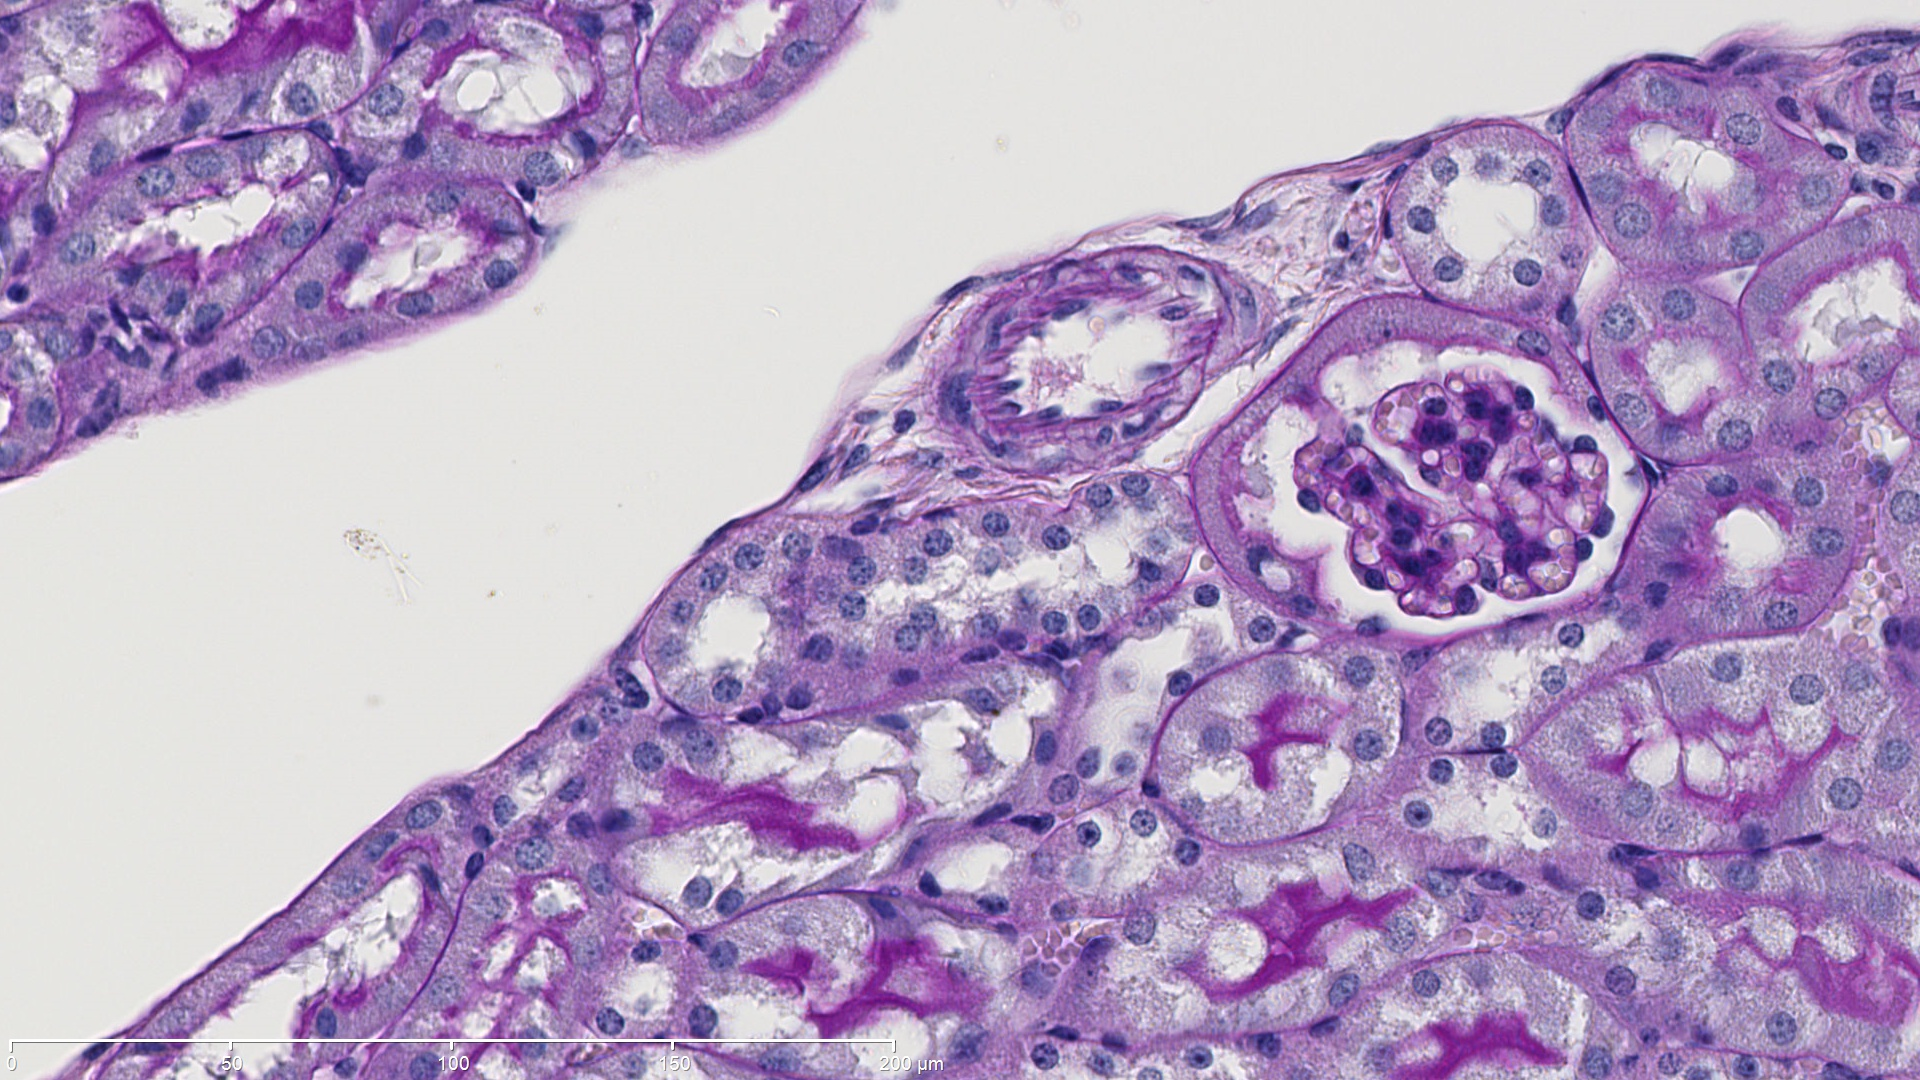Glomeruli: (1280, 338, 1643, 624)
